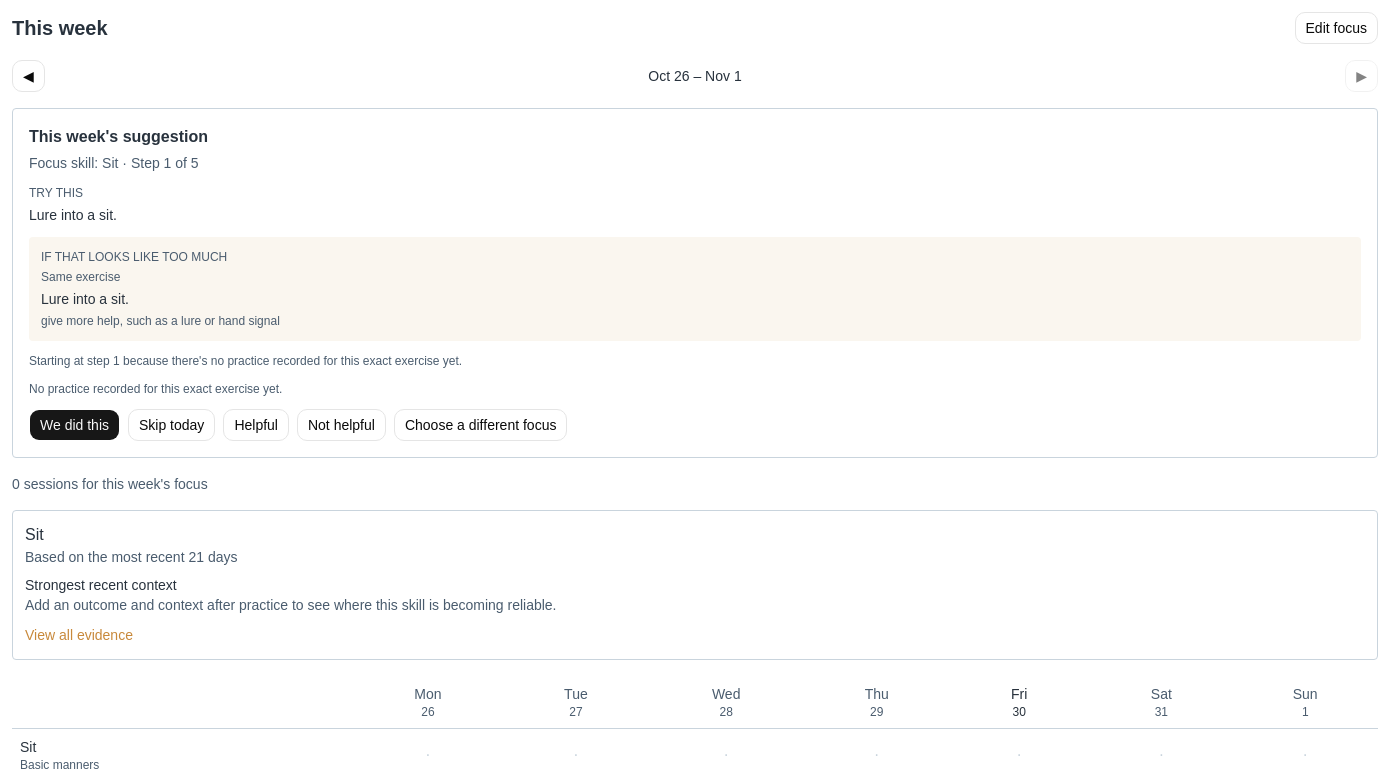
Scenario: DogWeek › does not render cached suggestions on historical weeks
This screenshot has width=1390, height=780.
Click the button named "Previous week".
click(28, 76)  # box [12,60,45,92]
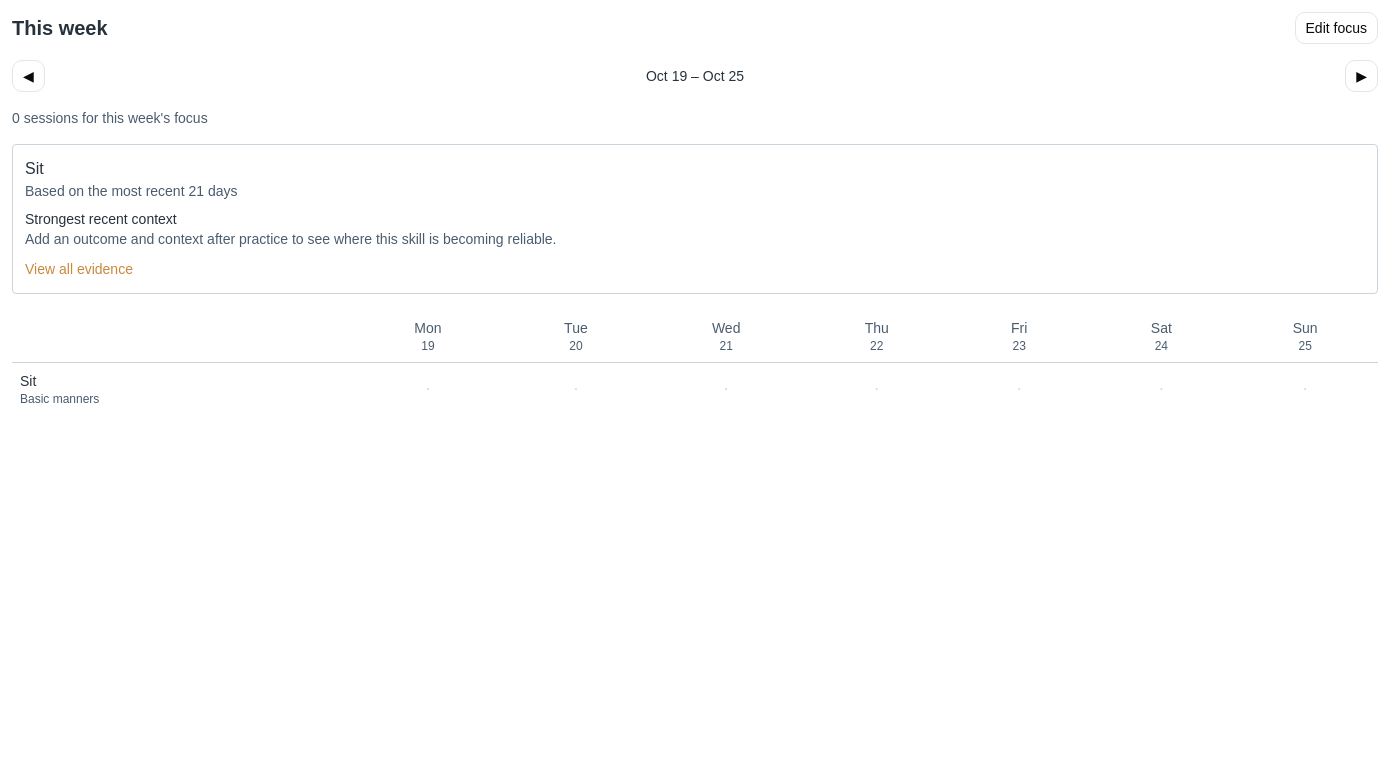
Expected: the heading "This week's suggestion" is gone
